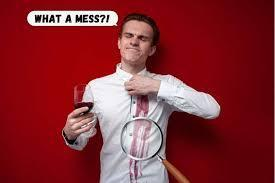oil: (136, 87, 149, 183), (127, 134, 142, 182)
